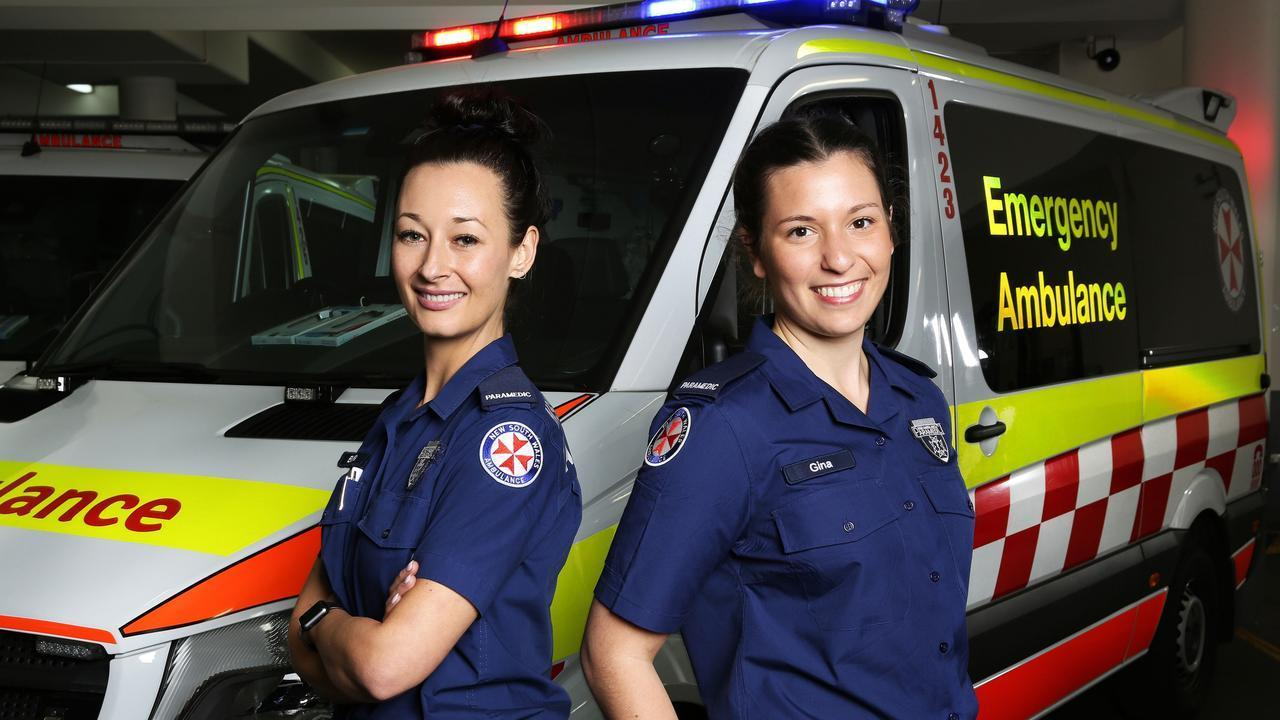Ambulance: (994, 267, 1140, 349)
